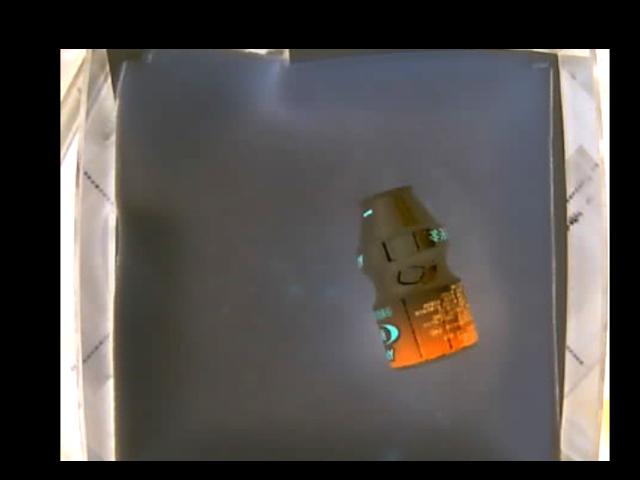Bottle: (356, 183, 476, 370)
